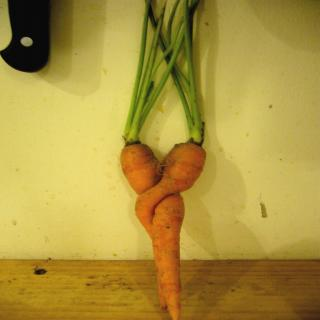Carrot: (118, 0, 210, 320)
